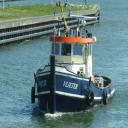tugboat: (31, 16, 117, 120)
